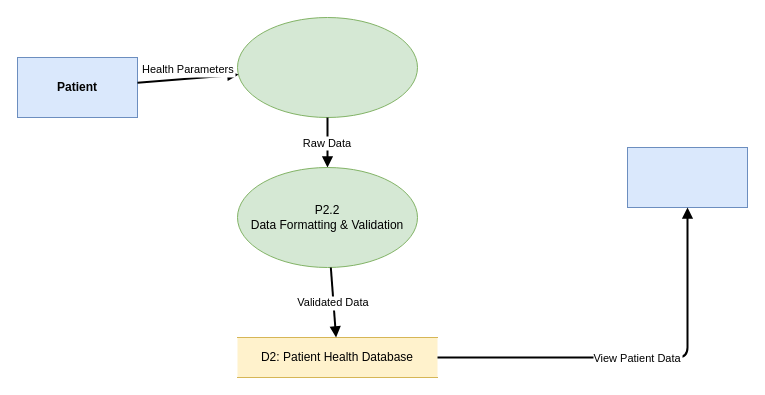
The diagram is 765 pixels wide and 395 high, and some of its shapes have lost their labels. Each missing label, with the centre of its shape:
Doctor: the point at 687,177
P2.1 Health Data Input: the point at 327,67
